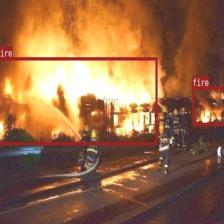fire: (0, 57, 157, 144), (192, 86, 224, 125)
